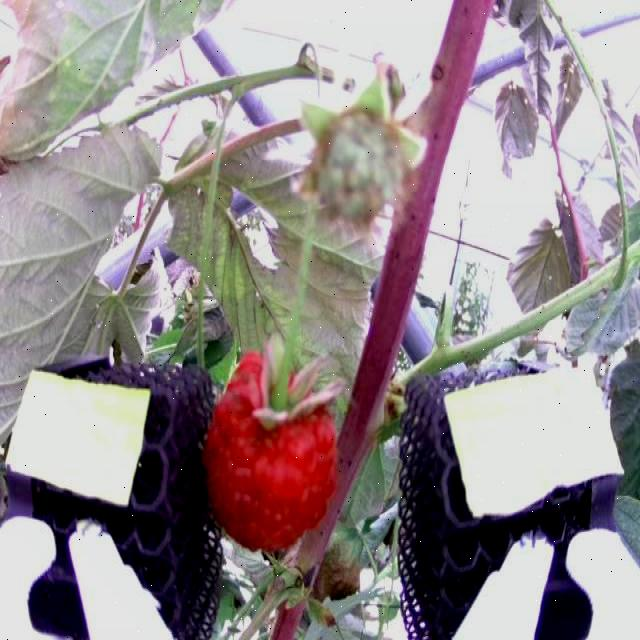Riped berries: (201, 342, 343, 554)
